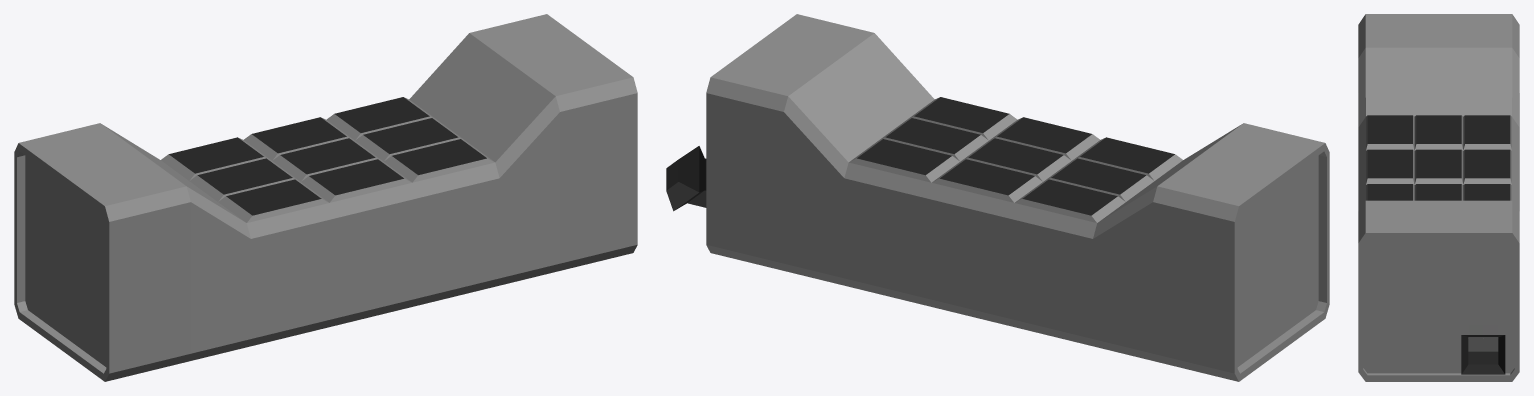
Rendered from MobilePhone.obj.
3 renders of one model, left to right at view 1: azimuth 30°, elevation 25°; view 2: azimuth 150°, elevation 25°; view 3: azimuth 270°, elevation 25°, orthographic. The views are drawn at different scales.
Visible parts, largest first — view 1: MobilePhone_Cube.004; view 2: MobilePhone_Cube.004; view 3: MobilePhone_Cube.004.
Part boxes in pixels (bbox=[...]): MobilePhone_Cube.004: bbox=[14, 14, 637, 381]; MobilePhone_Cube.004: bbox=[666, 14, 1329, 381]; MobilePhone_Cube.004: bbox=[1358, 14, 1519, 381].
Bounding box in the file's own units: 0.1449 × 0.0417 × 0.0409.
1 material, 1 textured.
